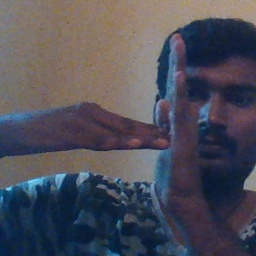Z: (82, 35, 206, 205)
